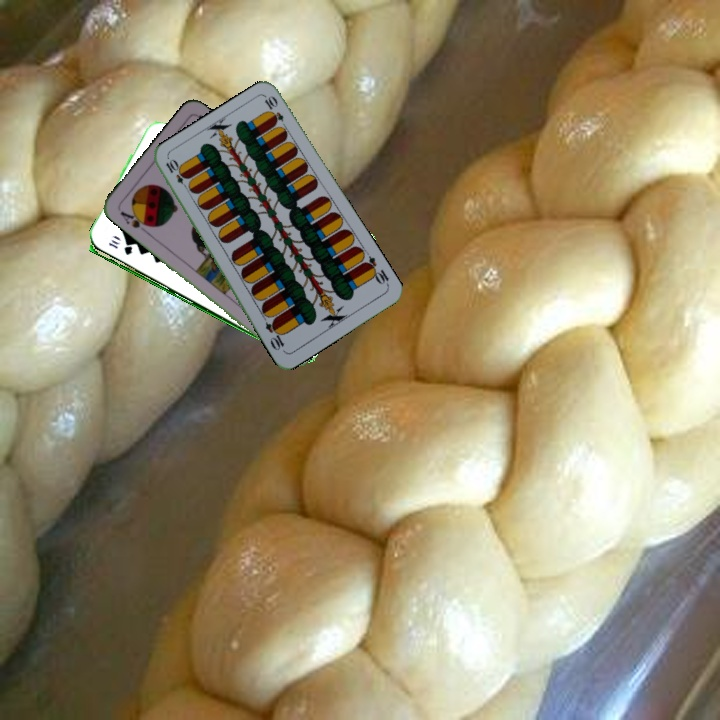E10: (360, 252, 392, 289), (162, 155, 192, 193)
G10: (104, 235, 135, 257)
SA: (116, 206, 153, 231)
